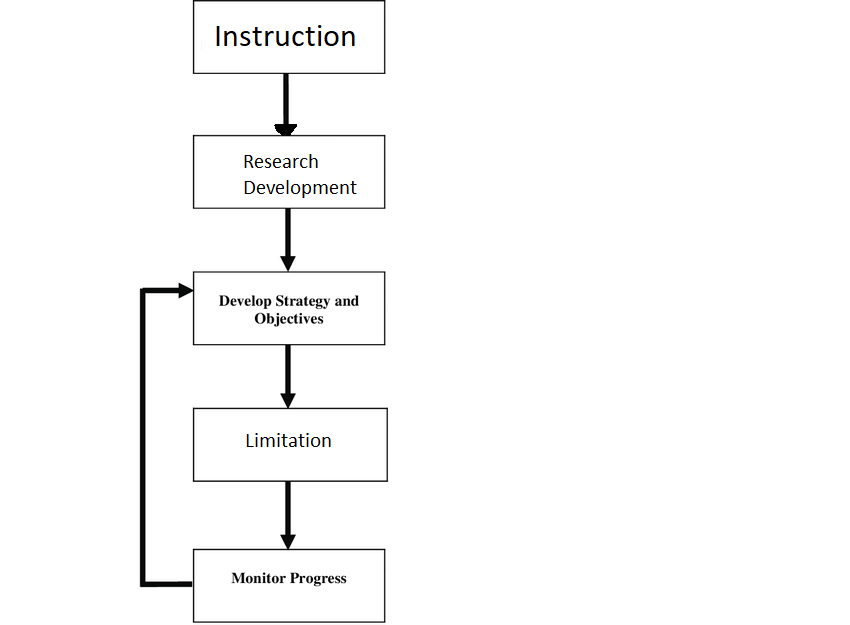arrow: (136, 283, 188, 589), (275, 73, 300, 133), (279, 342, 297, 407), (281, 482, 297, 549), (279, 207, 296, 268)
process: (190, 268, 388, 350), (190, 405, 391, 485), (189, 132, 388, 212), (189, 547, 390, 625), (189, 1, 390, 76)
text: (215, 291, 360, 330), (241, 151, 358, 199), (211, 24, 358, 52), (226, 568, 350, 591), (238, 431, 335, 456)
